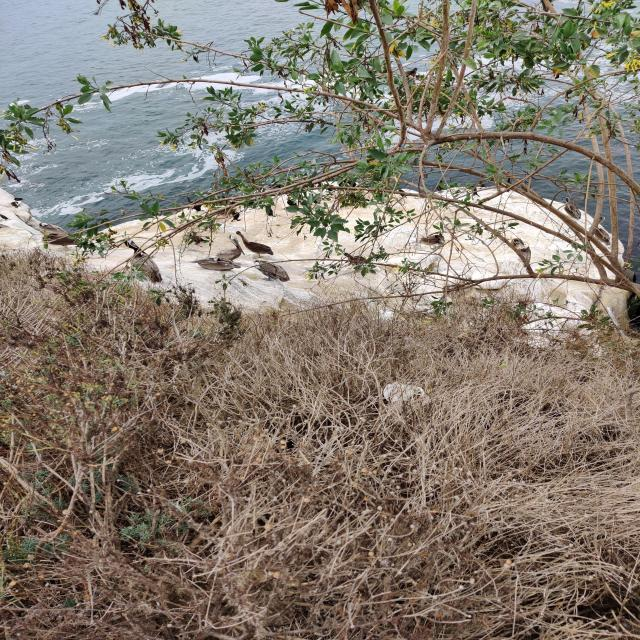litter: (384, 383, 425, 402)
